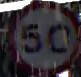Speed limit: (11, 0, 80, 73)
